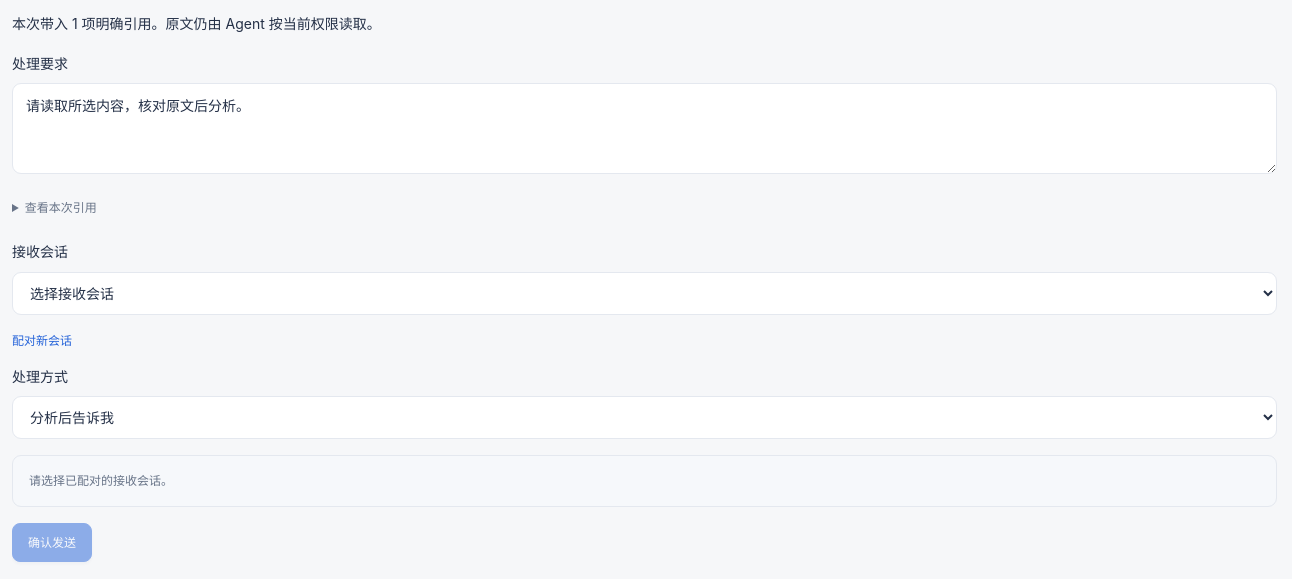
Scenario: requires explicit target selection and preserves analyze-only intent
This screenshot has width=1292, height=579.
Expected: the button "确认发送" is disabled, [12,523,92,562]
Select "方案讨论 · 已配对" in the dropdown labelled "接收会话" at (644, 293), box [12,272,1277,315]
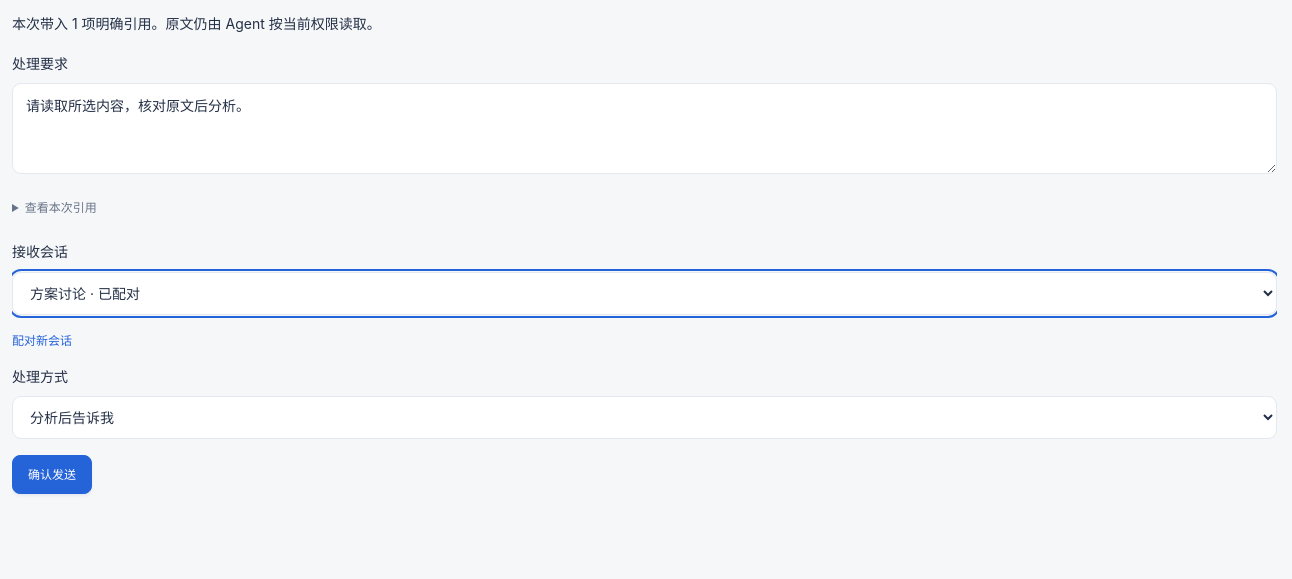
Click the button "确认发送".
click(52, 475)  # box [12,455,92,494]
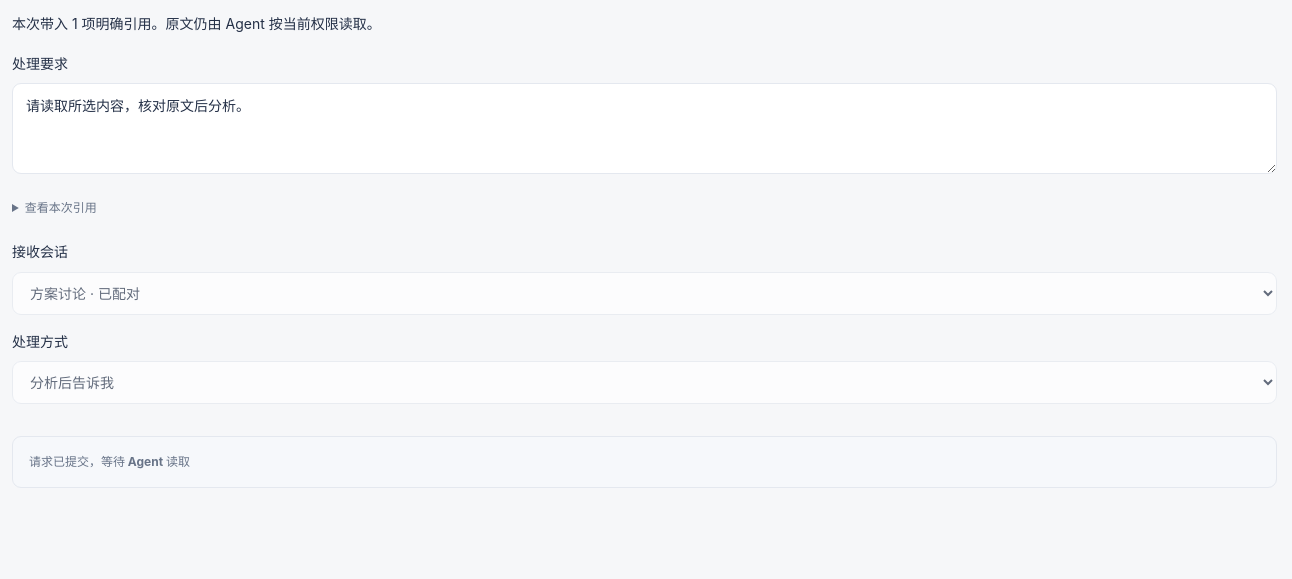
Expected: the text "请求已提交，等待 Agent 读取" is shown, [29,454,190,469]
Expected: the button "确认发送" is gone
